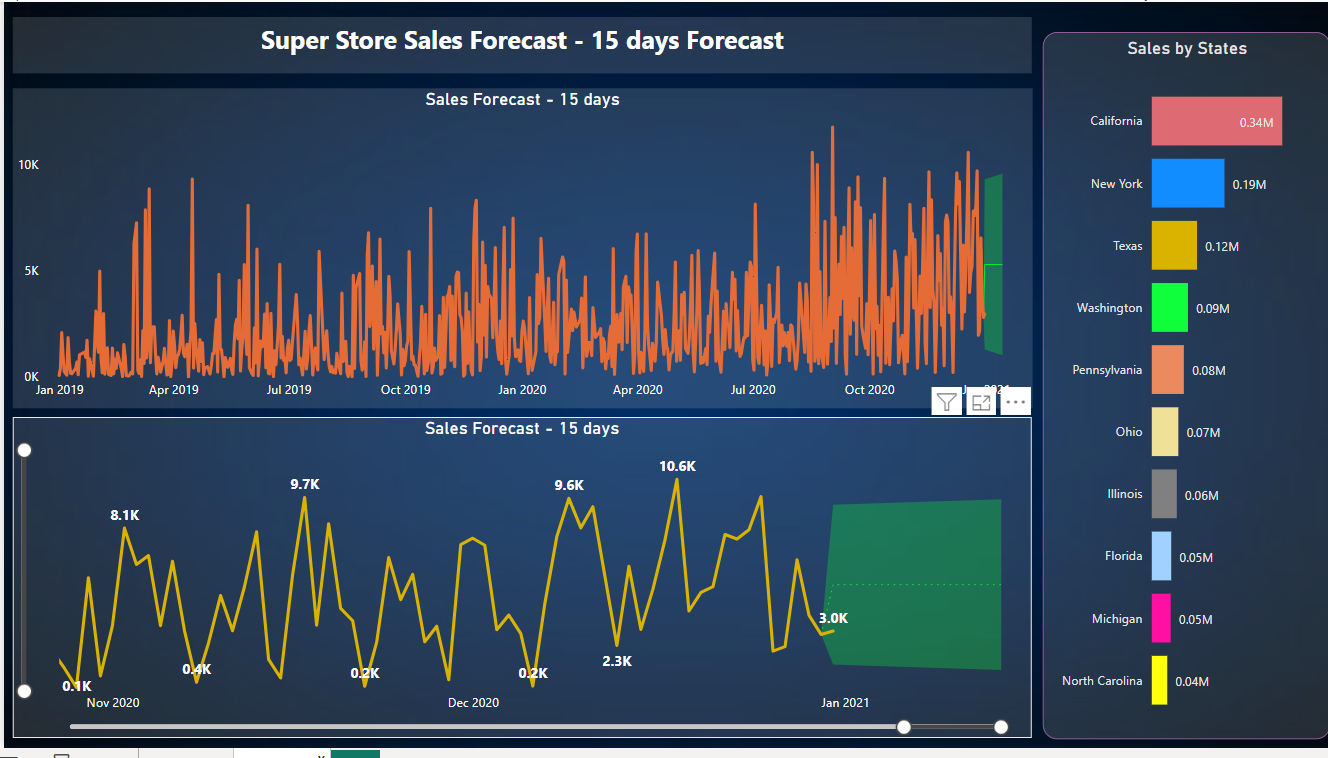

The dashboard page shown, as its layout file describes it:
{"tool":"powerbi","page":{"name":"Page 2","canvas":[1280,720],"ordinal":1},"visuals":[{"type":"lineChart","title":"Sales Forecast - 15 days","fields":{"Y":["Sum(SuperStore_Sales_Dataset.Sales)"],"Category":["SuperStore_Sales_Dataset.Order Date"]},"box":[8.4,83.2,984.1,308.7],"z":0},{"type":"lineChart","title":"Sales Forecast - 15 days","fields":{"Y":["Sum(SuperStore_Sales_Dataset.Sales)"],"Category":["SuperStore_Sales_Dataset.Order Date"]},"box":[8.4,400.4,982.9,309.9],"z":1000},{"type":"clusteredBarChart","title":"Sales by States","fields":{"Y":["Sum(SuperStore_Sales_Dataset (2).Sales)"],"Category":["SuperStore_Sales_Dataset (2).State"]},"box":[1002.2,28.9,277.4,682.6],"z":2000},{"type":"textbox","box":[8.4,14.5,982.9,54.3],"z":2001}]}

Visuals, with their boxes in screenshot pixels (x1, y1, x2, y2), scaled from the page's 1280x720 canvas onto the 1328x758 screenshot:
"Sales Forecast - 15 days" lineChart: <region>9, 88, 1030, 413</region>
"Sales Forecast - 15 days" lineChart: <region>9, 422, 1028, 748</region>
"Sales by States" clusteredBarChart: <region>1040, 30, 1327, 749</region>
textbox: <region>9, 15, 1028, 72</region>
